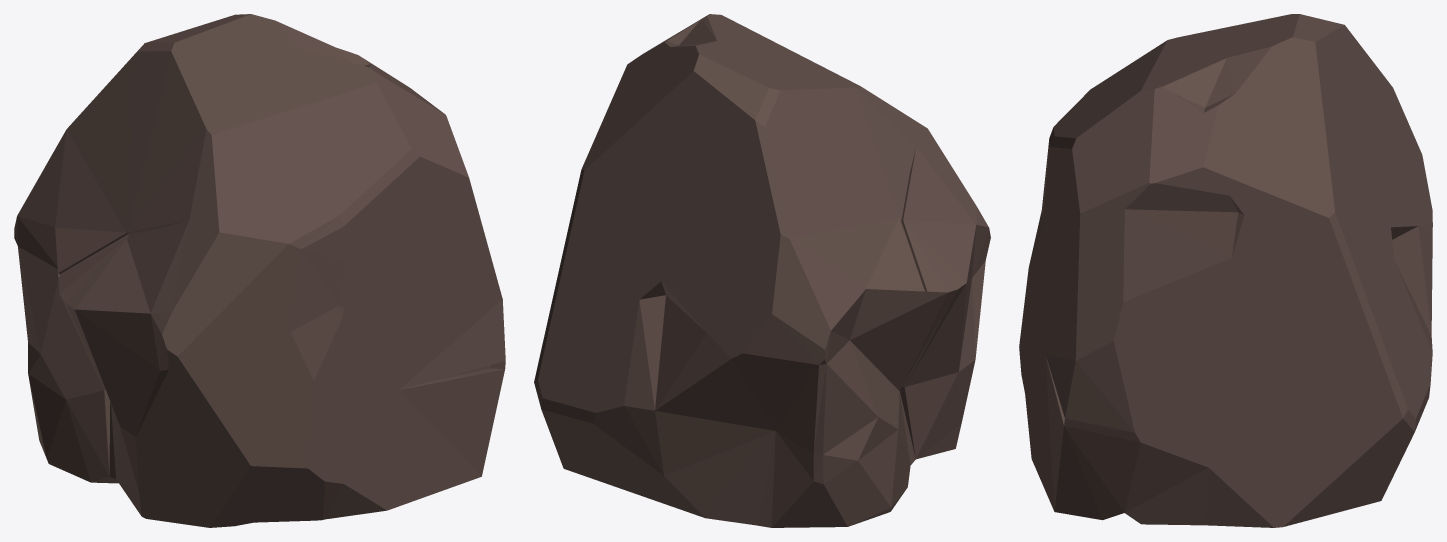
Rendered from Rock 1.fbx.
3 views of the same model, side by side, from view 1: azimuth 30°, elevation 25°; view 2: azimuth 150°, elevation 25°; view 3: azimuth 270°, elevation 25° (orthographic). The views are drawn at different scales.
Visible parts, largest first — view 1: Cliff shard 1; view 2: Cliff shard 1; view 3: Cliff shard 1.
Boxes of the visible parts, box(x1,y1,x2,y2) form: Cliff shard 1: box(14, 14, 505, 527); Cliff shard 1: box(534, 14, 990, 527); Cliff shard 1: box(1019, 14, 1432, 527).
Size of the model in its own units: 1.03 by 1.04 by 0.9386.
